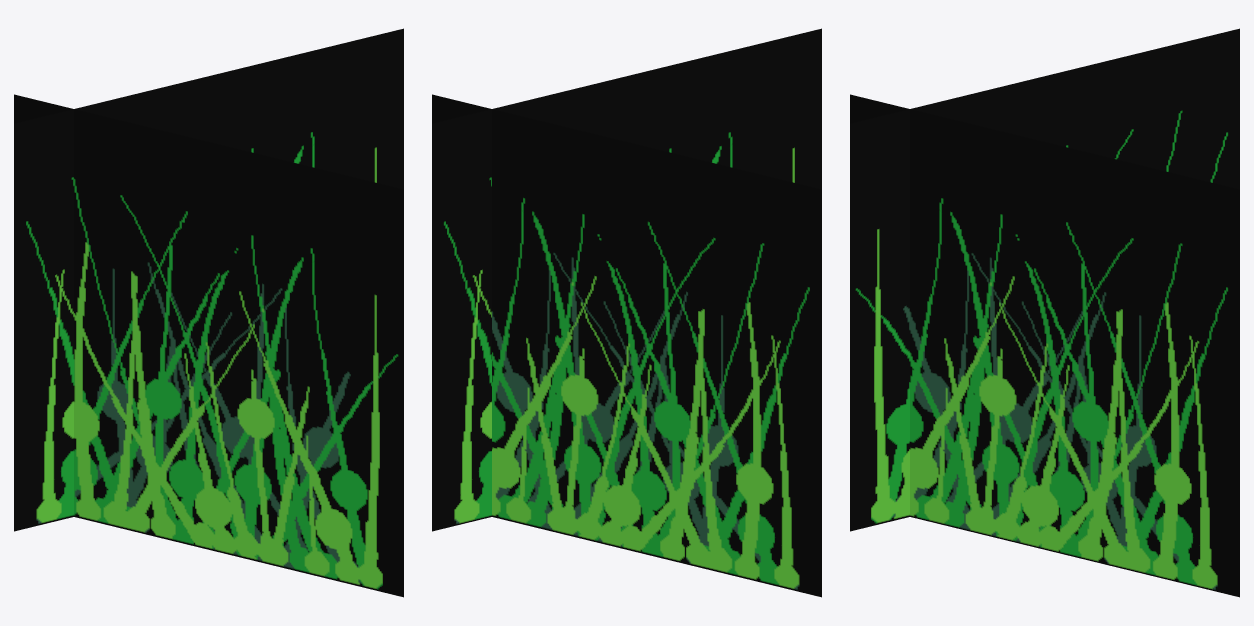
Rendered from grass_particle.gltf.
3 views of the same model, side by side, from view 1: azimuth 30°, elevation 25°; view 2: azimuth 150°, elevation 25°; view 3: azimuth 270°, elevation 25° (orthographic).
Visible parts, largest first — view 1: Plane; view 2: Plane; view 3: Plane.
Part boxes in pixels (box(x1,y1,x2,y2)): Plane: box(14, 28, 403, 597); Plane: box(432, 28, 821, 597); Plane: box(850, 28, 1239, 597).
Size of the model in its own units: 0.5 by 0.5 by 0.433.
Materials: 1 (1 with a texture image).
